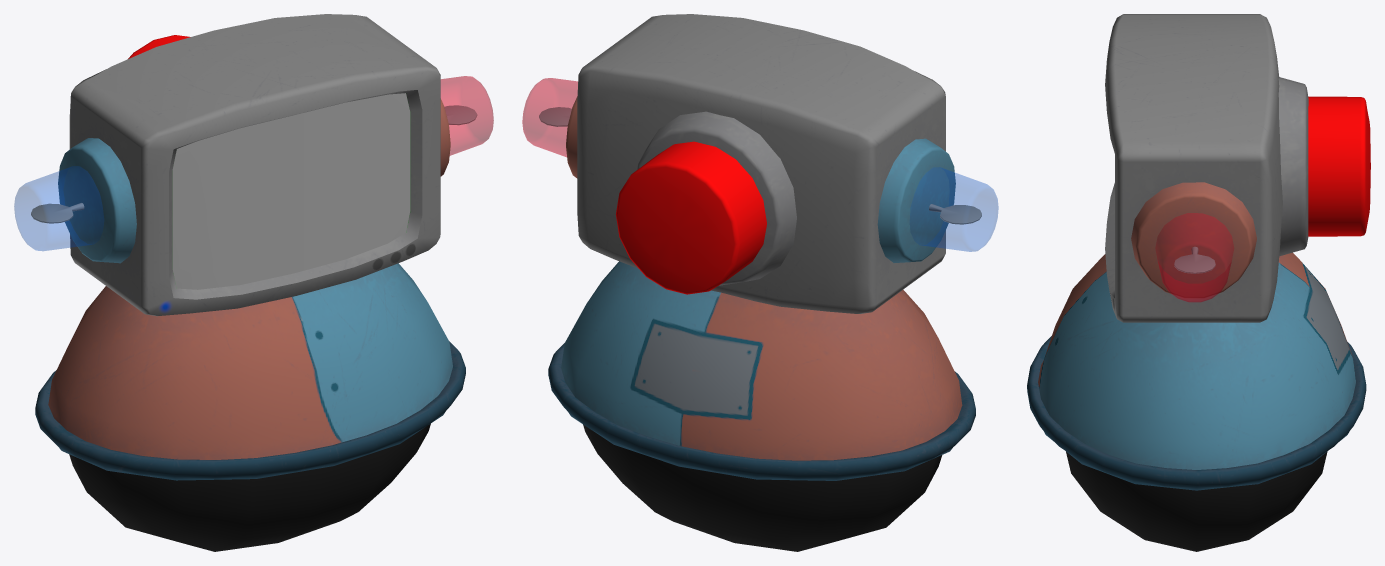
The model's file is bumper bot.fbx.
3 renders of one model, left to right at view 1: azimuth 30°, elevation 25°; view 2: azimuth 150°, elevation 25°; view 3: azimuth 270°, elevation 25°, orthographic. The views are drawn at different scales.
Visible parts, largest first — view 1: pCube8; view 2: pCube8; view 3: pCube8.
Boxes of the visible parts, x1,y1,x2,y2 form: pCube8: [14, 14, 493, 551]; pCube8: [522, 14, 998, 551]; pCube8: [1027, 14, 1370, 551].
Size of the model in its own units: 0.6618 by 0.6717 by 0.452.
4 materials, 1 textured.
